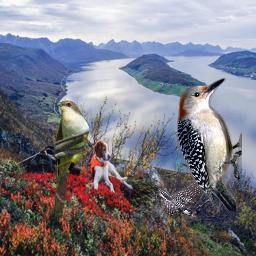Cuckoo: (51, 100, 91, 218)
Woodpecker: (177, 78, 242, 211), (158, 178, 209, 221)
